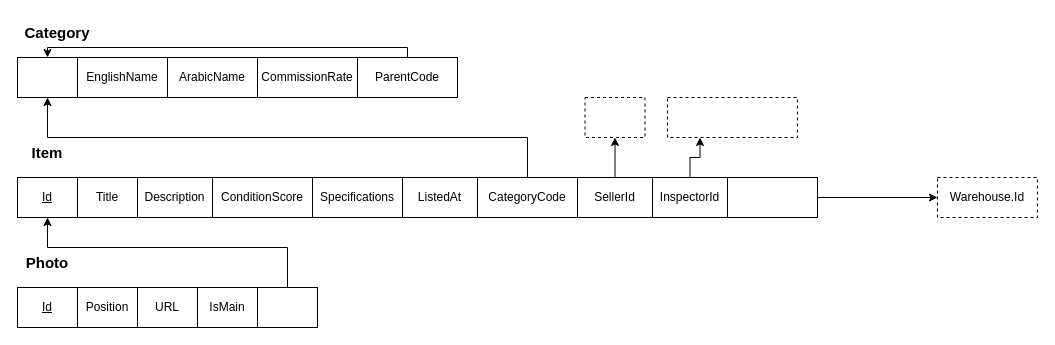
Image size: 1055x345. Some labels were removed from this diagram. Each missing label, with the box of its shape:
Code: (16, 56, 78, 98)
Employee.MemberId: (666, 96, 798, 138)
ItemId: (256, 286, 318, 328)
Member.Id: (584, 96, 645, 138)
WarehouseId: (726, 176, 818, 218)
